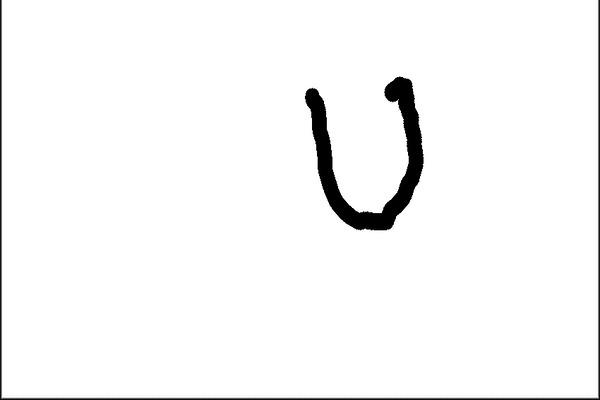U: (293, 63, 437, 241)
